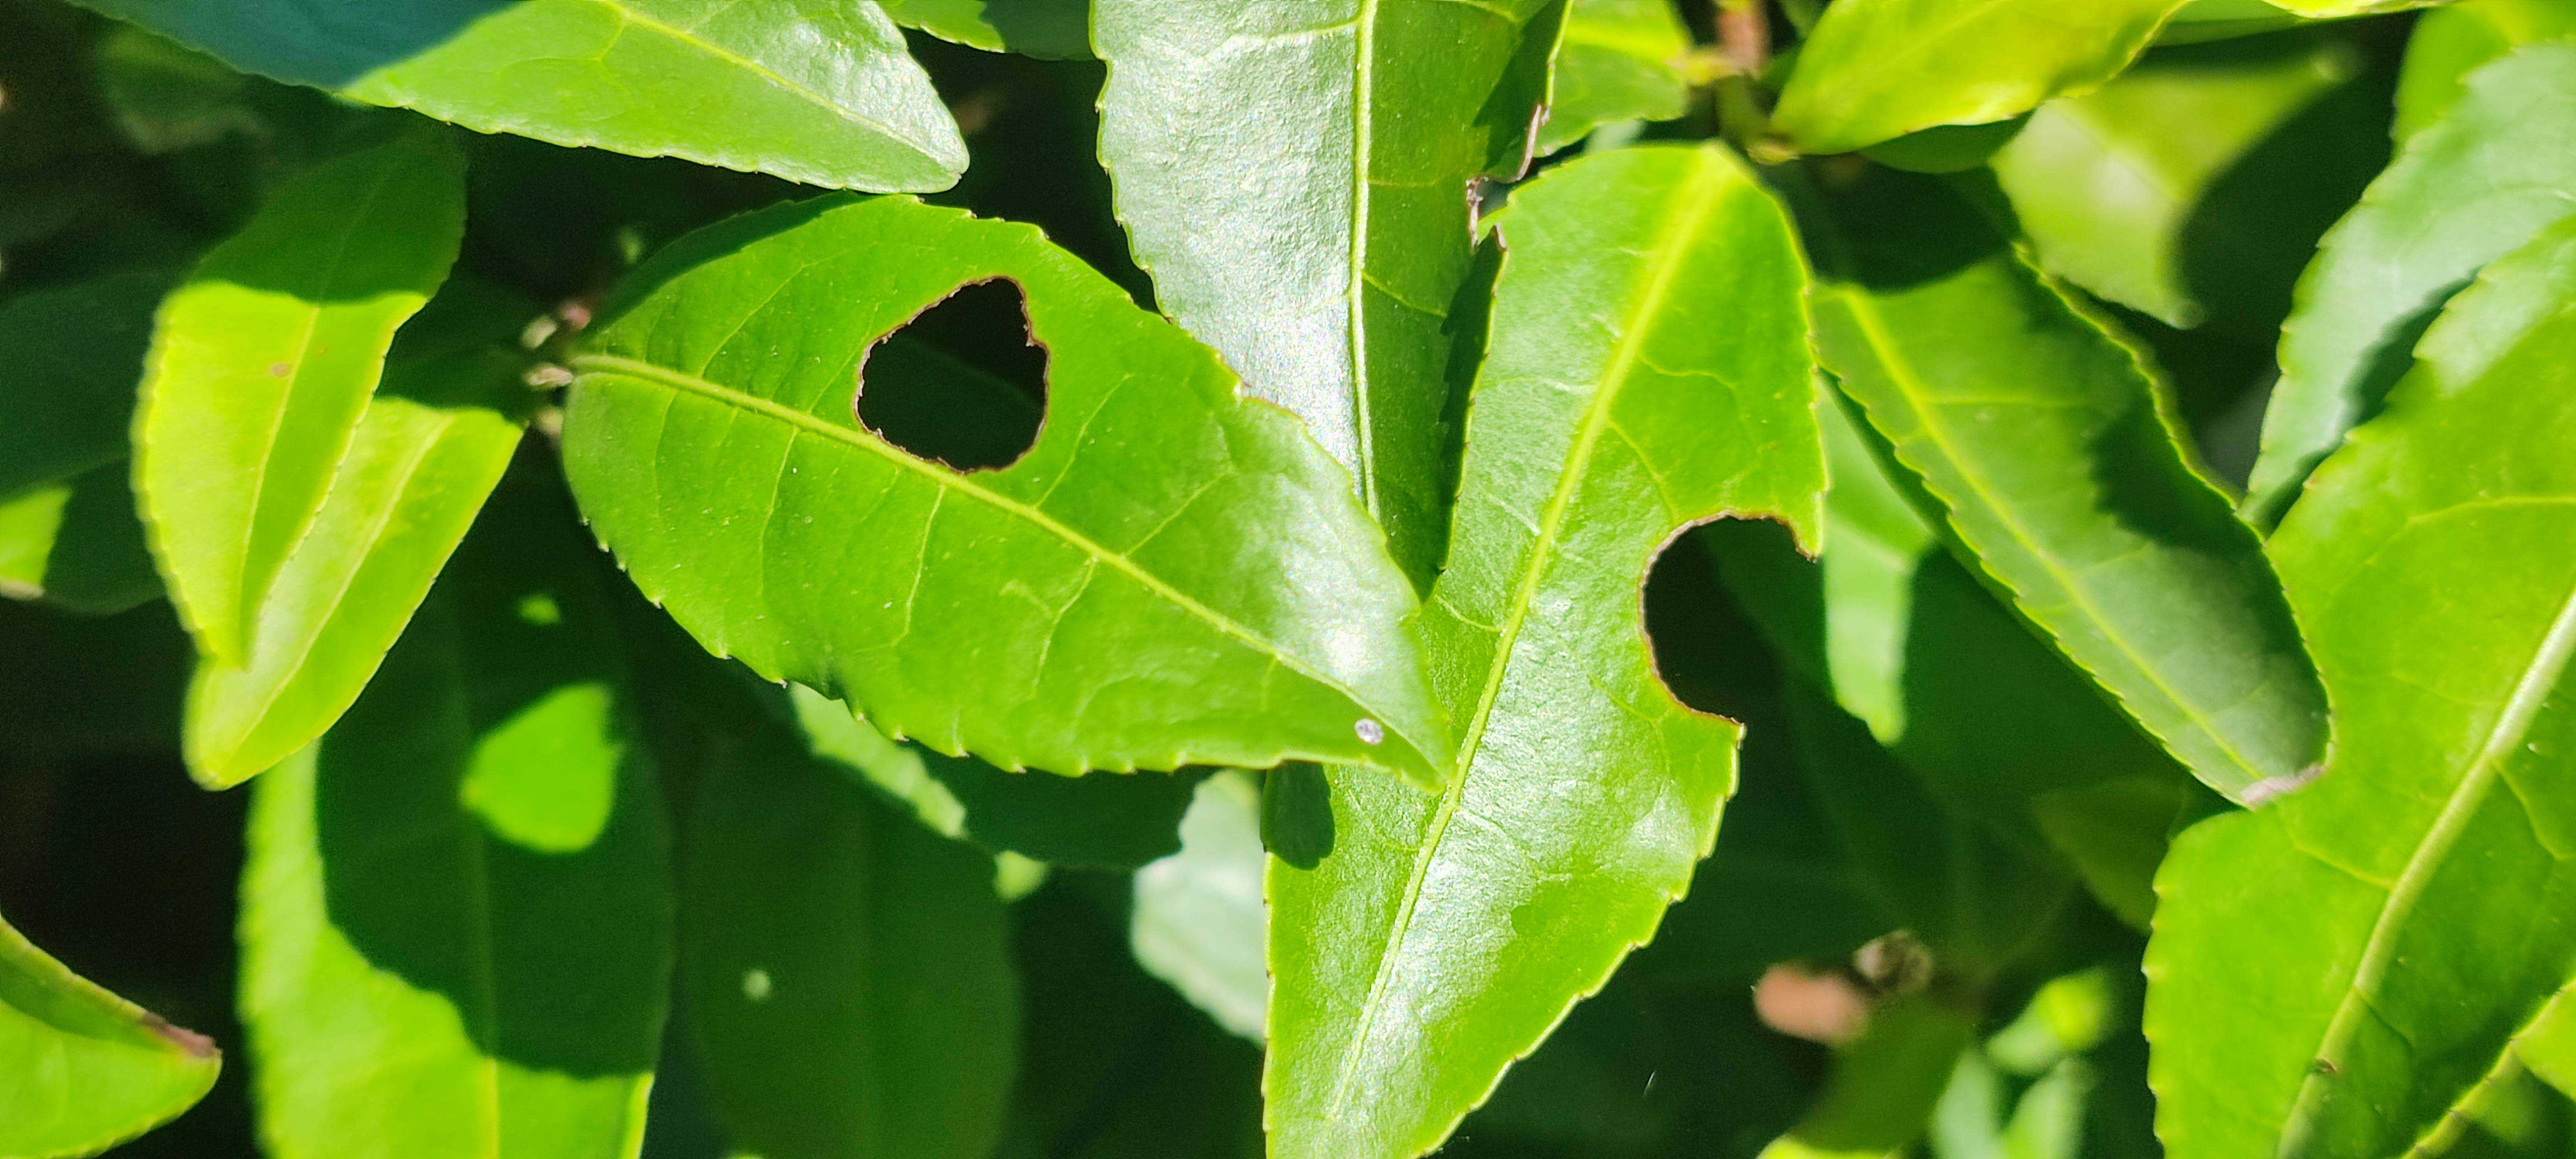chihuo_low: (1255, 140, 1832, 1159), (559, 194, 1459, 795)
healthy: (76, 0, 974, 197)
tanju_low: (125, 117, 472, 671), (0, 911, 225, 1154)
